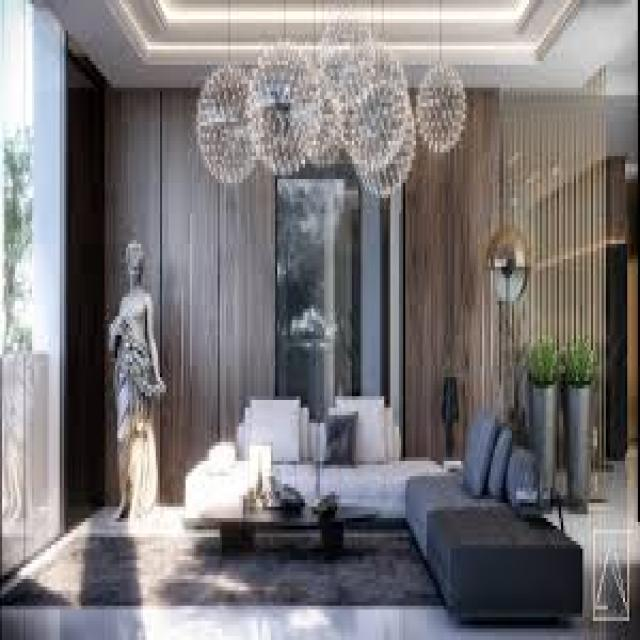Lamp: (197, 0, 471, 212)
Sofa: (181, 397, 445, 534), (410, 422, 579, 629)
Table: (201, 493, 381, 567)
